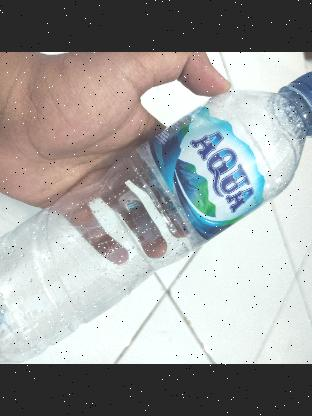Plastic Bottle: (0, 69, 312, 364)
